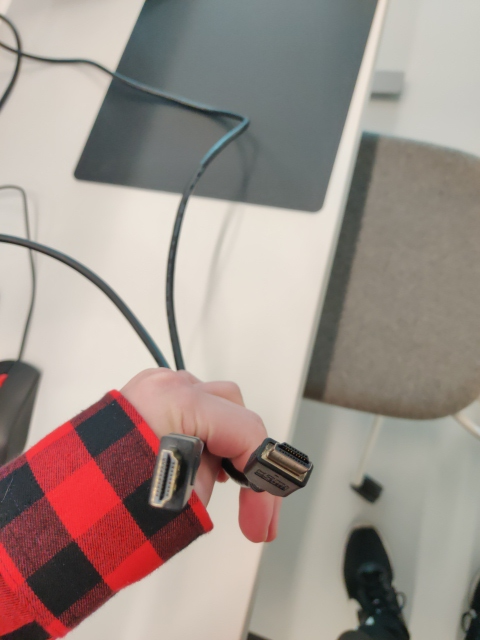HDMI: (150, 445, 186, 507), (266, 440, 313, 476)
